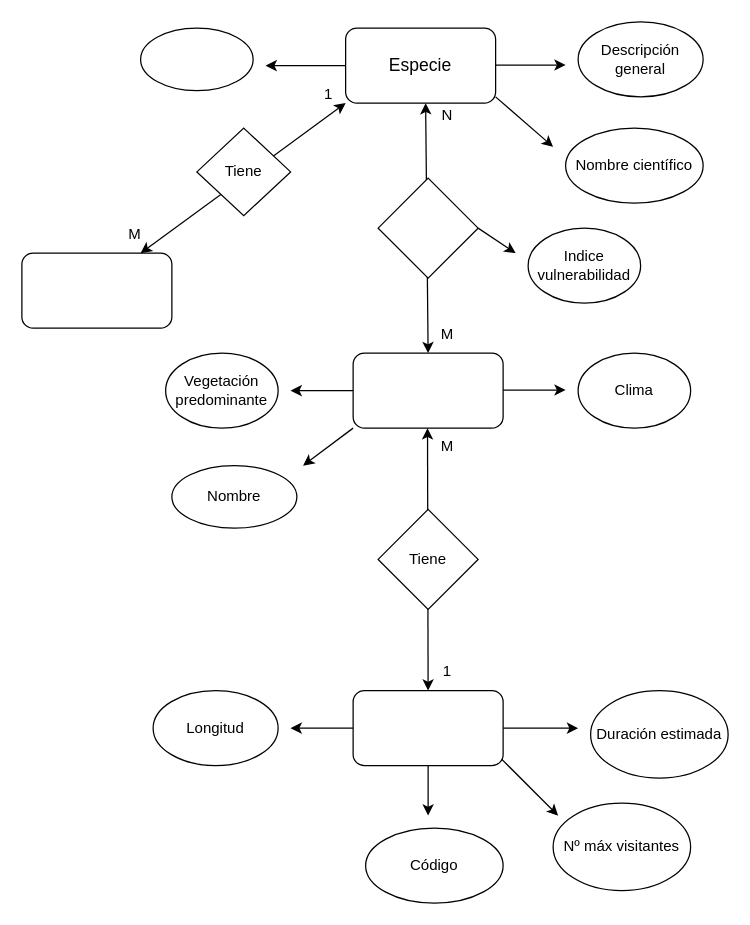
Image size: 750x925. Some labels were removed from this diagram. Here are the shapes that lost their labels. From the top down, the box of each, then its label:
(139, 27, 253, 91): Foto
(377, 177, 478, 278): Vive
(21, 252, 172, 328): Nombre común
(352, 352, 503, 428): Hábitat
(352, 689, 503, 766): Recorrido
